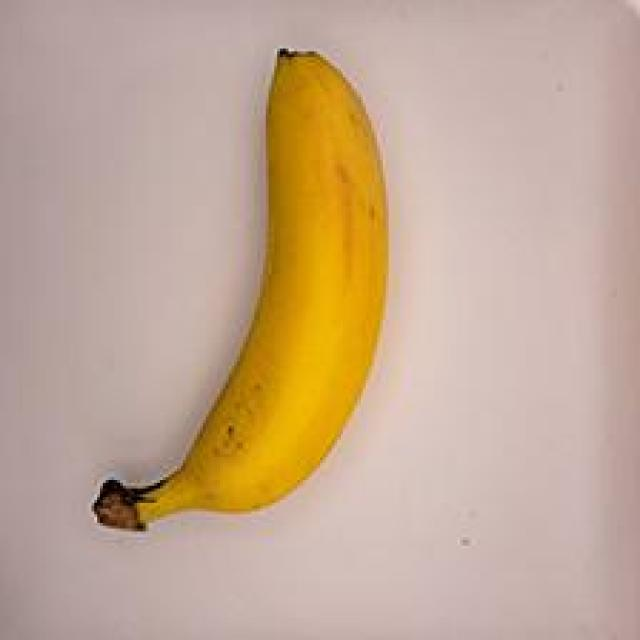Ripe: (65, 38, 451, 532)
